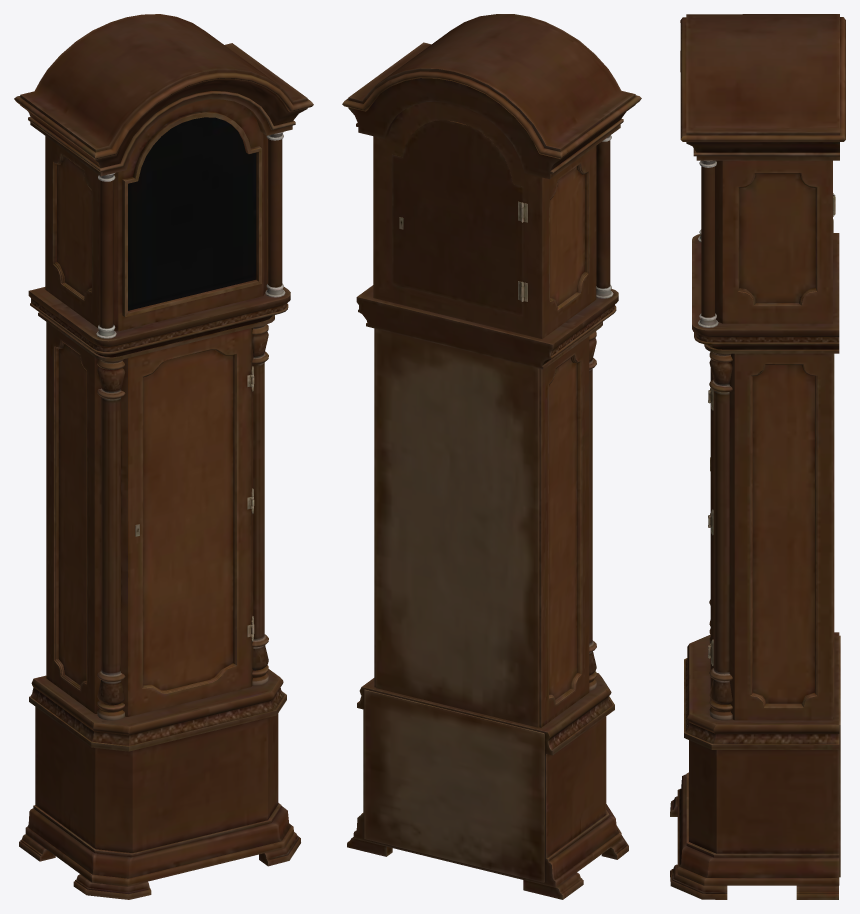
Rendered from vintage_grandfather_clock_01.glb.
3 views of the same model, side by side, from view 1: azimuth 30°, elevation 25°; view 2: azimuth 150°, elevation 25°; view 3: azimuth 270°, elevation 25° (orthographic). The views are drawn at different scales.
Visible parts, largest first — view 1: vintage_grandfather_clock_01_body; view 2: vintage_grandfather_clock_01_body; view 3: vintage_grandfather_clock_01_body.
Part boxes in pixels (box(x1,y1,x2,y2)): vintage_grandfather_clock_01_body: box(14, 14, 313, 899); vintage_grandfather_clock_01_body: box(342, 14, 641, 899); vintage_grandfather_clock_01_body: box(670, 14, 845, 899).
Bounding box in the file's own units: 0.6255 × 2.19 × 0.4265.
Materials: 2 (2 with a texture image).
